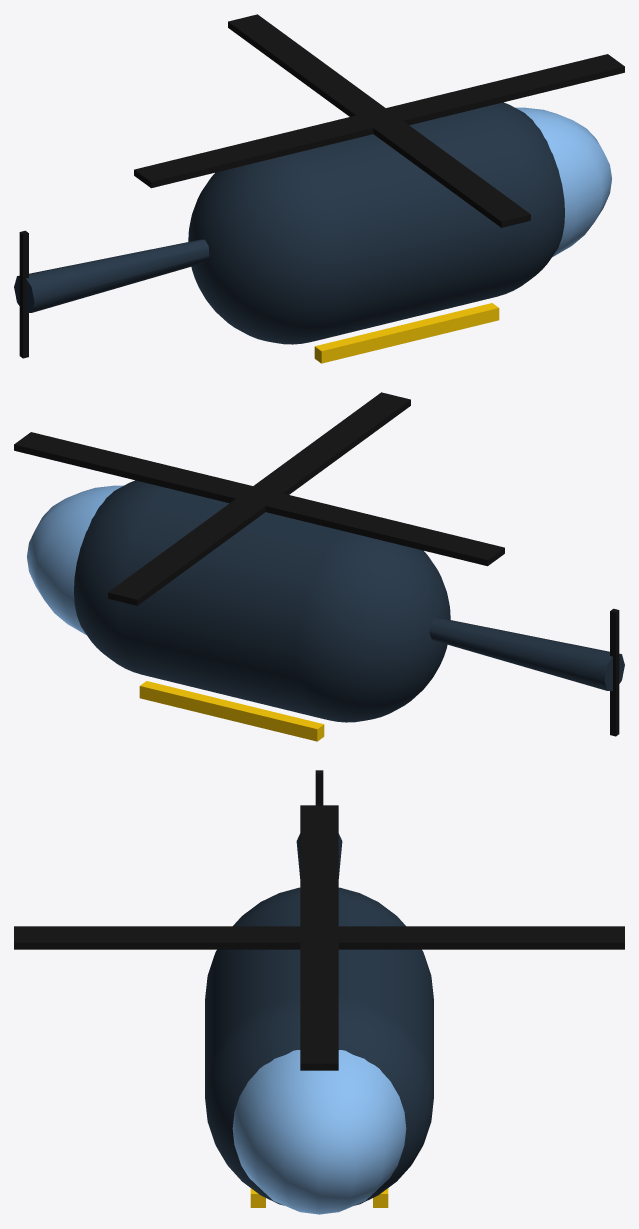
The model's file is helicopter.glb.
3 views of the same model, one above another, from view 1: azimuth 30°, elevation 25°; view 2: azimuth 150°, elevation 25°; view 3: azimuth 270°, elevation 25° (orthographic). The views are drawn at different scales.
Visible parts, largest first — view 1: helicopter, main-rotor, tail-rotor; view 2: helicopter, main-rotor, tail-rotor; view 3: helicopter, main-rotor.
Boxes of the visible parts, bbox=[...] form: helicopter: bbox=[14, 102, 611, 363]; main-rotor: bbox=[134, 14, 624, 227]; tail-rotor: bbox=[19, 230, 28, 358]; helicopter: bbox=[27, 480, 624, 741]; main-rotor: bbox=[14, 392, 504, 605]; tail-rotor: bbox=[610, 608, 619, 736]; helicopter: bbox=[205, 833, 433, 1214]; main-rotor: bbox=[14, 805, 624, 1070].
Size of the model in its own units: 10.05 by 3.25 by 8.
